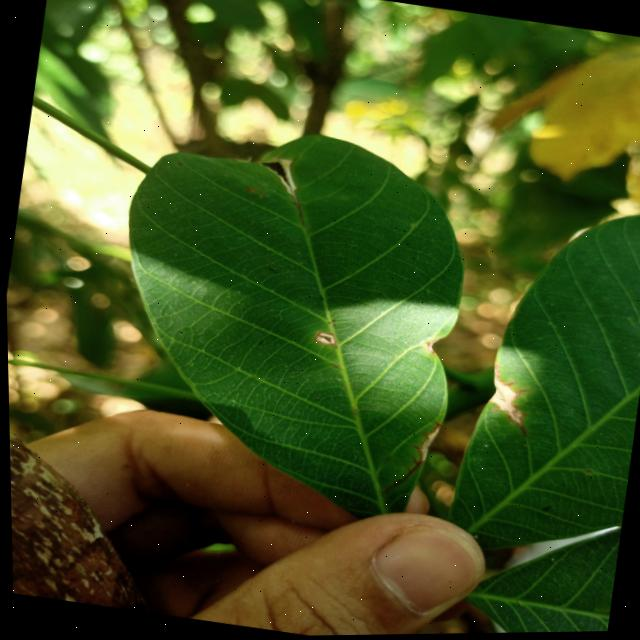Corynespora: (381, 416, 441, 501), (482, 364, 534, 438), (280, 186, 307, 223)
